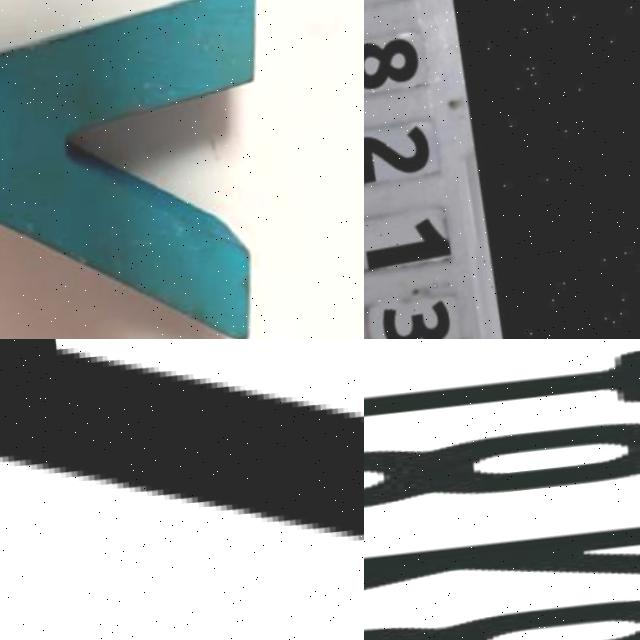1: (364, 182, 474, 288)
2: (364, 97, 458, 202)
3: (364, 271, 484, 339)
4: (364, 339, 640, 397)
8: (364, 411, 640, 534), (364, 582, 640, 640), (364, 4, 451, 111)
K: (364, 518, 640, 636)
T: (364, 342, 640, 464)
U: (0, 339, 364, 633)
V: (0, 0, 293, 339)
